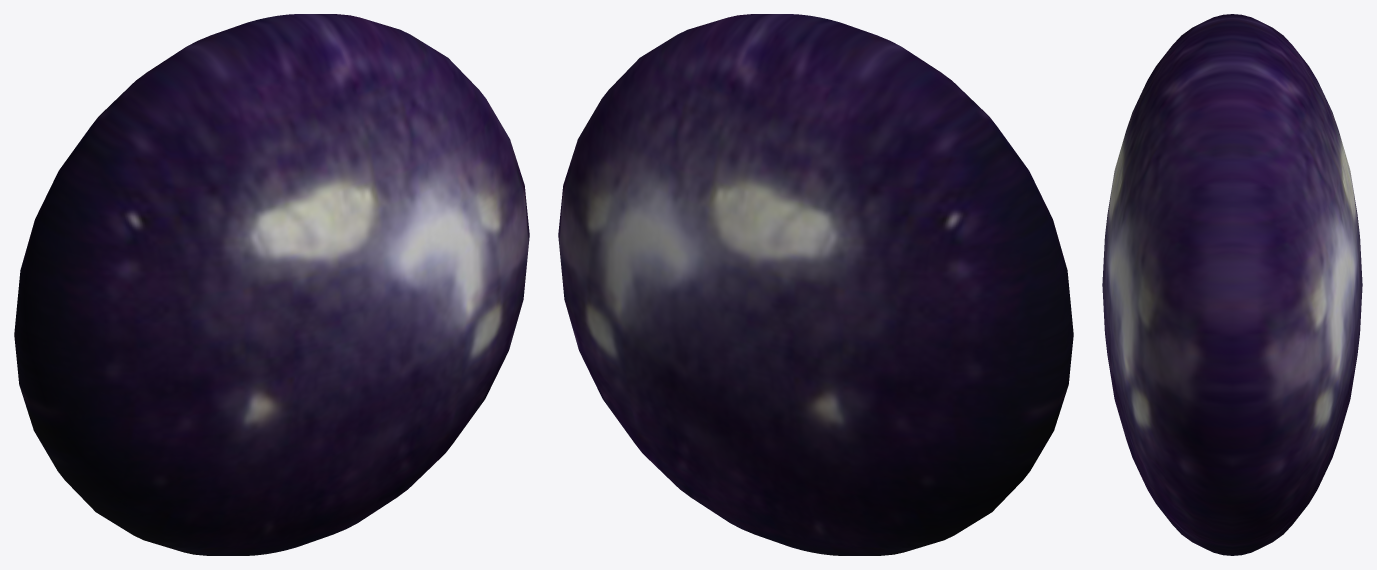
The model's file is 20140311GOPHDRGPT02147.fbx.
3 views of the same model, side by side, from view 1: azimuth 30°, elevation 25°; view 2: azimuth 150°, elevation 25°; view 3: azimuth 270°, elevation 25° (orthographic). The views are drawn at different scales.
Parts seen in each view (by area): view 1: Sphere; view 2: Sphere; view 3: Sphere.
Boxes of the visible parts, bbox=[...] form: Sphere: bbox=[14, 14, 529, 555]; Sphere: bbox=[558, 14, 1073, 555]; Sphere: bbox=[1102, 14, 1362, 555].
Size of the model in its own units: 1.01 by 1.01 by 0.484.
Materials: 1 (1 with a texture image).
